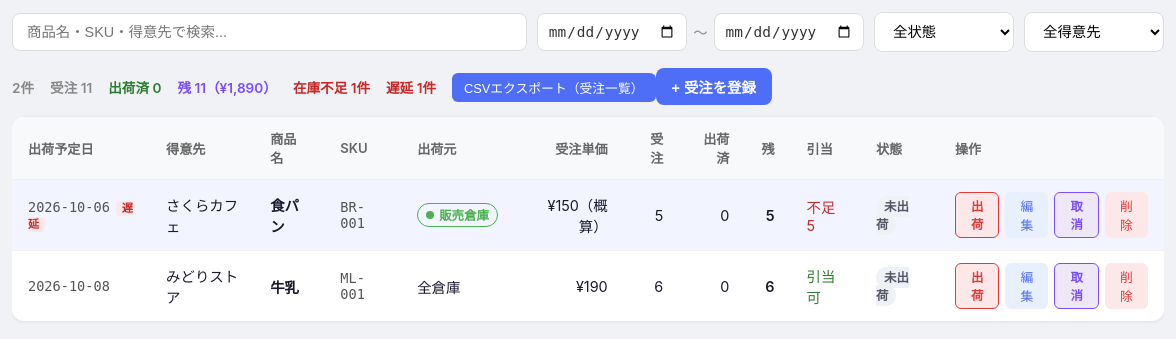
Test: SalesOrderView — 一覧 › 得意先で絞り込める
Select "みどりストア" in the dropdown named "得意先" at (1094, 32), box [1024,12,1164,52]
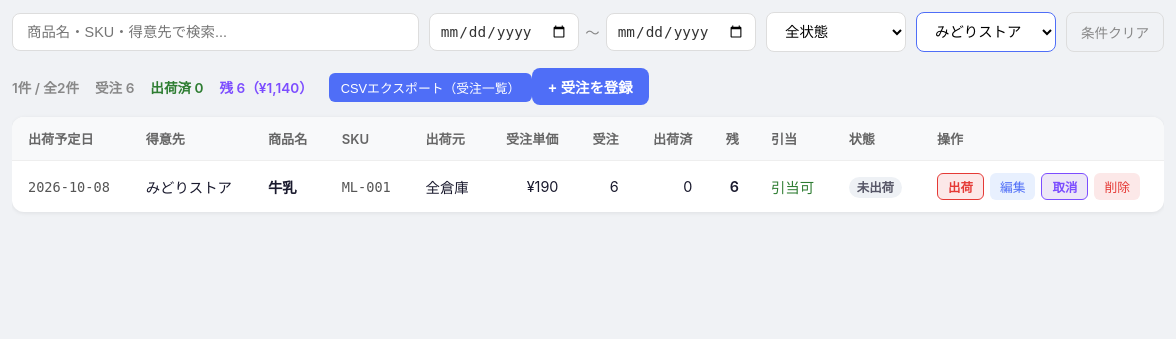
Expected: the text "1件 / 全2件" is shown, [12,76,79,96]
